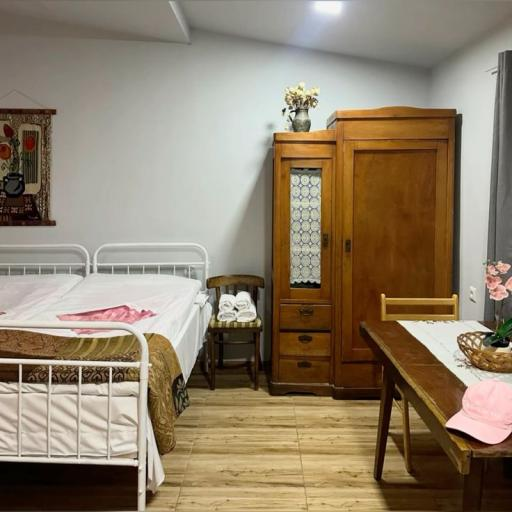bottle: (207, 274, 264, 390)
bus: (270, 107, 456, 398)
person: (0, 244, 211, 509)
phone: (359, 320, 512, 510)
